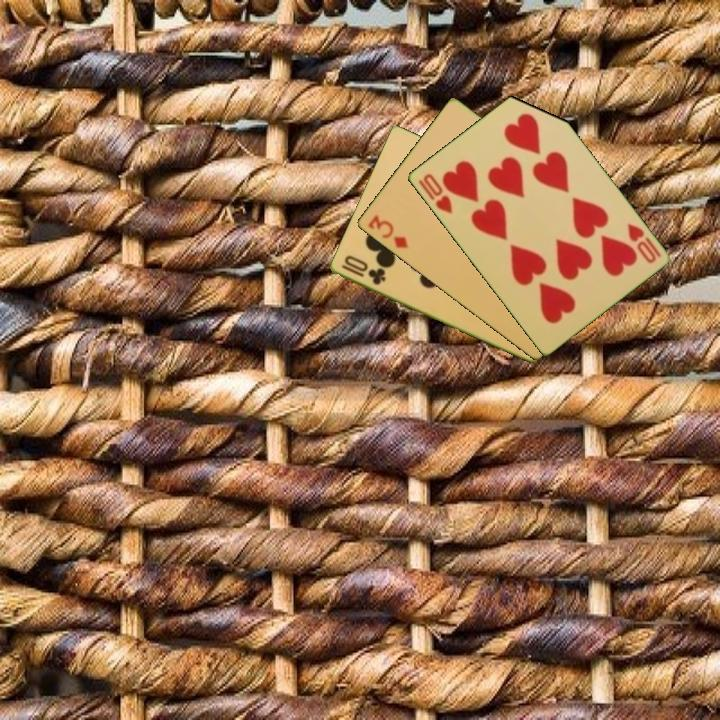10c: (337, 252, 388, 288)
10h: (414, 170, 455, 217), (623, 220, 664, 266)
3d: (364, 211, 411, 251)
